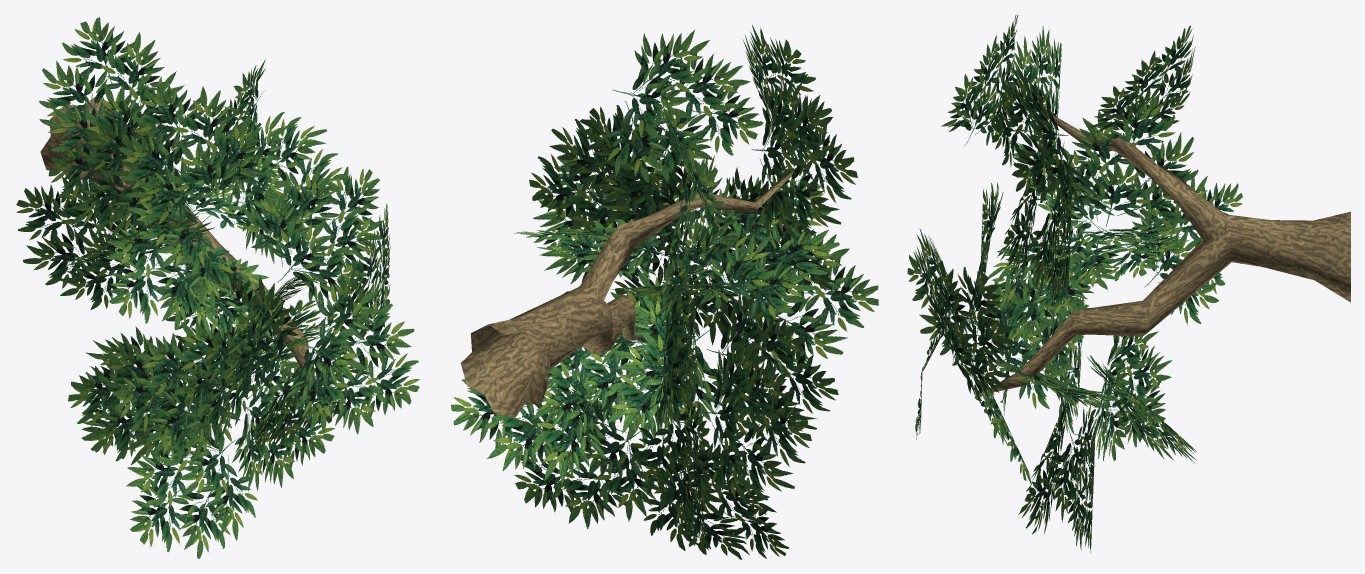
Rendered from tree.obj.
The picture shows the model from 3 angles, left to right: view 1: azimuth 30°, elevation 25°; view 2: azimuth 150°, elevation 25°; view 3: azimuth 270°, elevation 25°; orthographic projection. The views are drawn at different scales.
Parts seen in each view (by area): view 1: Plane.002_Plane.003, Plane.000_Plane.001; view 2: Plane.002_Plane.003, Plane.000_Plane.001; view 3: Plane.002_Plane.003, Plane.000_Plane.001.
Part boxes in pixels (x1=…): Plane.002_Plane.003: x1=16, y1=17, x2=419, y2=558; Plane.000_Plane.001: x1=40, y1=97, x2=310, y2=380; Plane.002_Plane.003: x1=451, y1=25, x2=878, y2=559; Plane.000_Plane.001: x1=460, y1=154, x2=813, y2=417; Plane.002_Plane.003: x1=907, y1=14, x2=1242, y2=552; Plane.000_Plane.001: x1=975, y1=99, x2=1350, y2=396.
Size of the model in its own units: 8.65 by 12.65 by 10.43.
